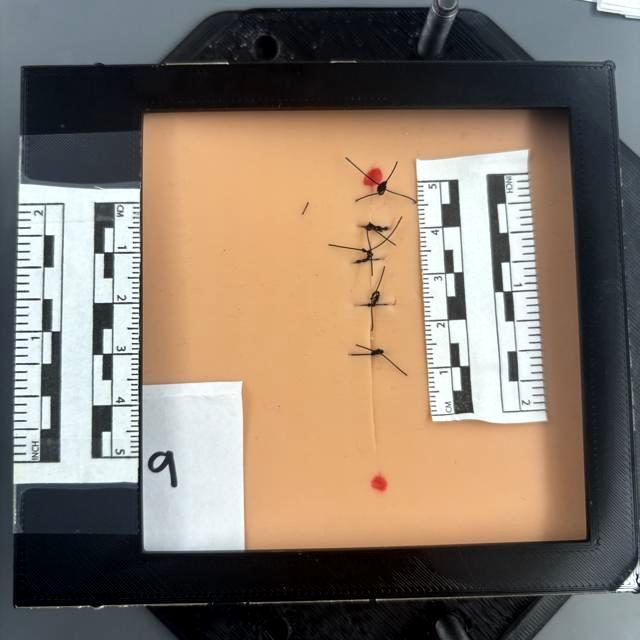incision_line: (371, 177, 381, 484)
scale_marker: (428, 368, 454, 414)
suture_d: (368, 260, 381, 305), (370, 305, 379, 353), (371, 194, 381, 226), (369, 227, 378, 259)
suture_l: (354, 189, 375, 203), (349, 350, 373, 358), (354, 301, 375, 308), (360, 224, 376, 232), (354, 258, 373, 264)
suture_r: (374, 302, 395, 308), (376, 224, 390, 232), (372, 258, 387, 264), (376, 190, 385, 198), (374, 351, 384, 358)
